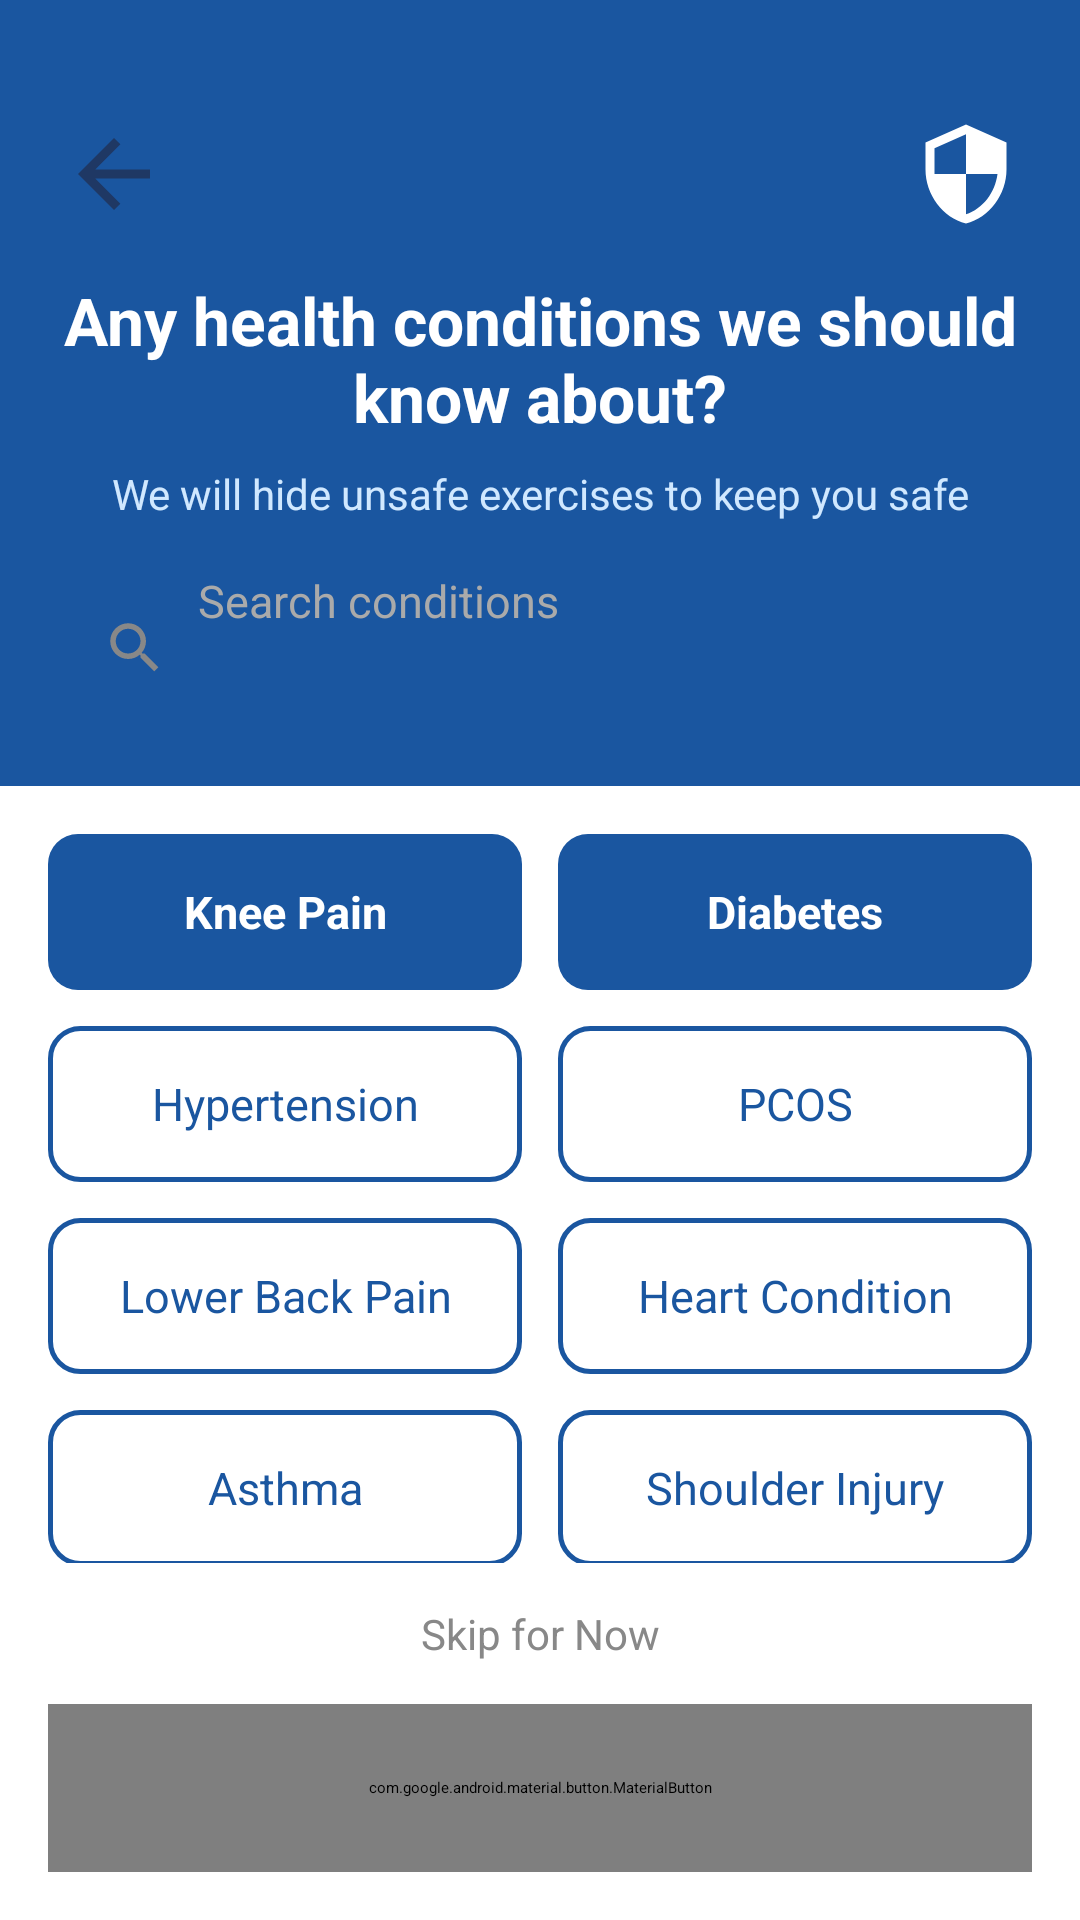

Icon bounding boxes for this 1080 x 1920 phone screenshot, format (x1, y1, x2, y2):
back arrow: (78, 138, 150, 210)
shield: (925, 124, 1007, 224)
